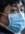with_mask: (1, 2, 25, 34)
